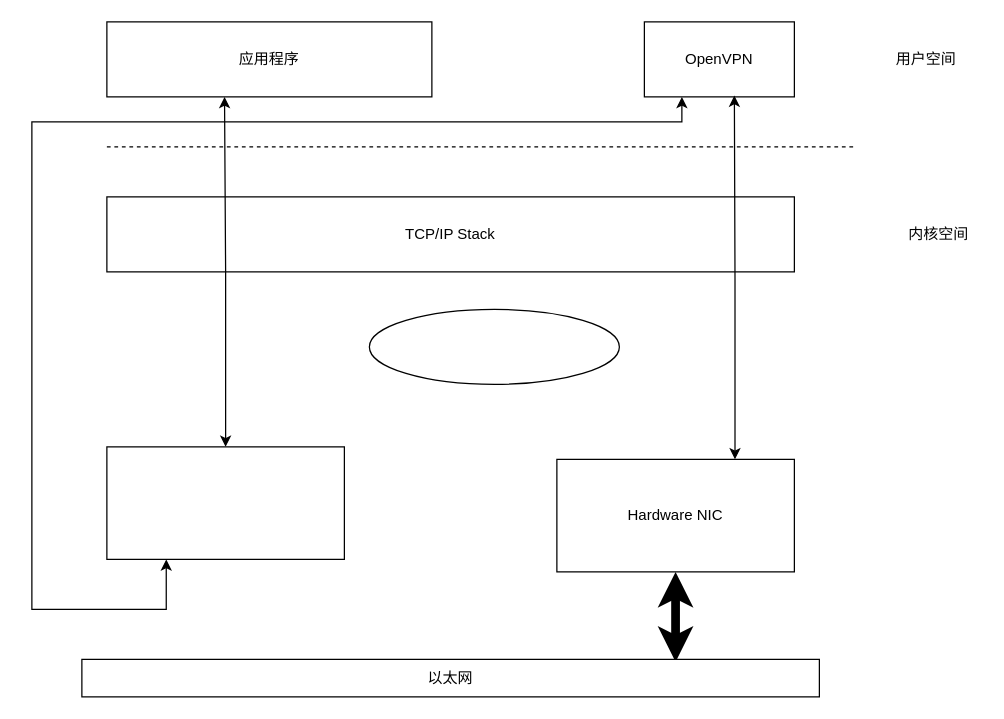
This 1004x719 diagram has some shape labels left out. The box of each missing label's shape, as (x1, y1, x2, y2) in pixels:
TUN/TAP NIC: (106, 446, 344, 559)
路由表: (368, 308, 619, 384)
